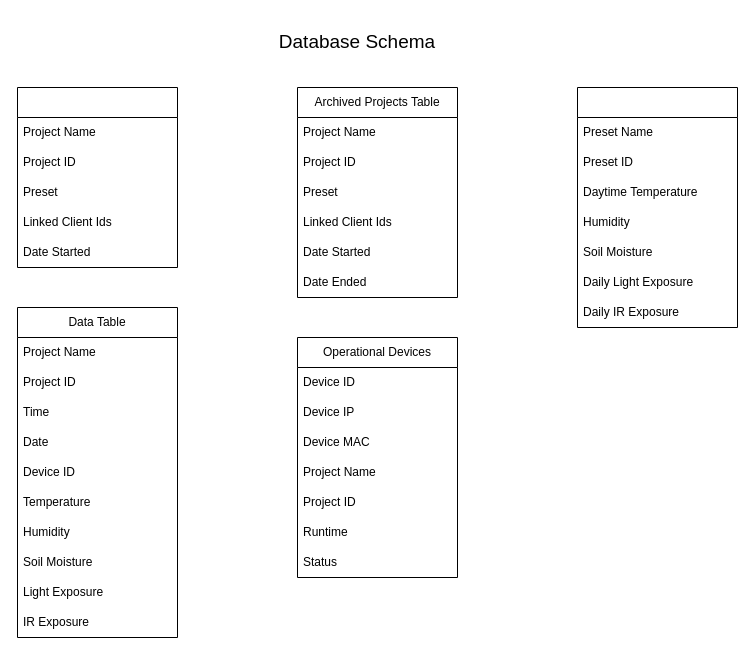
Image size: 755x655. Some labels were removed from this diagram. The box of each missing label's shape, as (x1, y1, x2, y2) in pixels:
Active Projects Table: (16, 86, 178, 268)
Presets Table: (576, 86, 738, 328)
